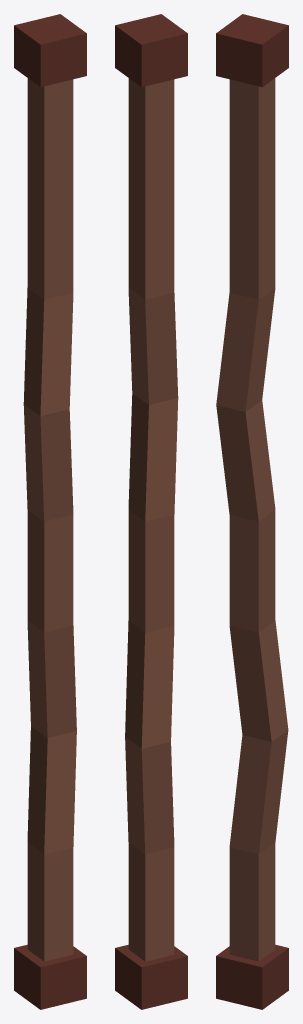
Rendered from ScrapPiller3.fbx.
3 views of the same model, side by side, from view 1: azimuth 30°, elevation 25°; view 2: azimuth 210°, elevation 25°; view 3: azimuth 330°, elevation 25° (orthographic).
Parts seen in each view (by area): view 1: Cube; view 2: Cube; view 3: Cube.
Boxes of the visible parts, bbox=[...] form: Cube: bbox=[14, 14, 86, 1009]; Cube: bbox=[115, 14, 187, 1009]; Cube: bbox=[216, 14, 288, 1009].
Bounding box in the file's own units: 20.02 × 398 × 19.8.
